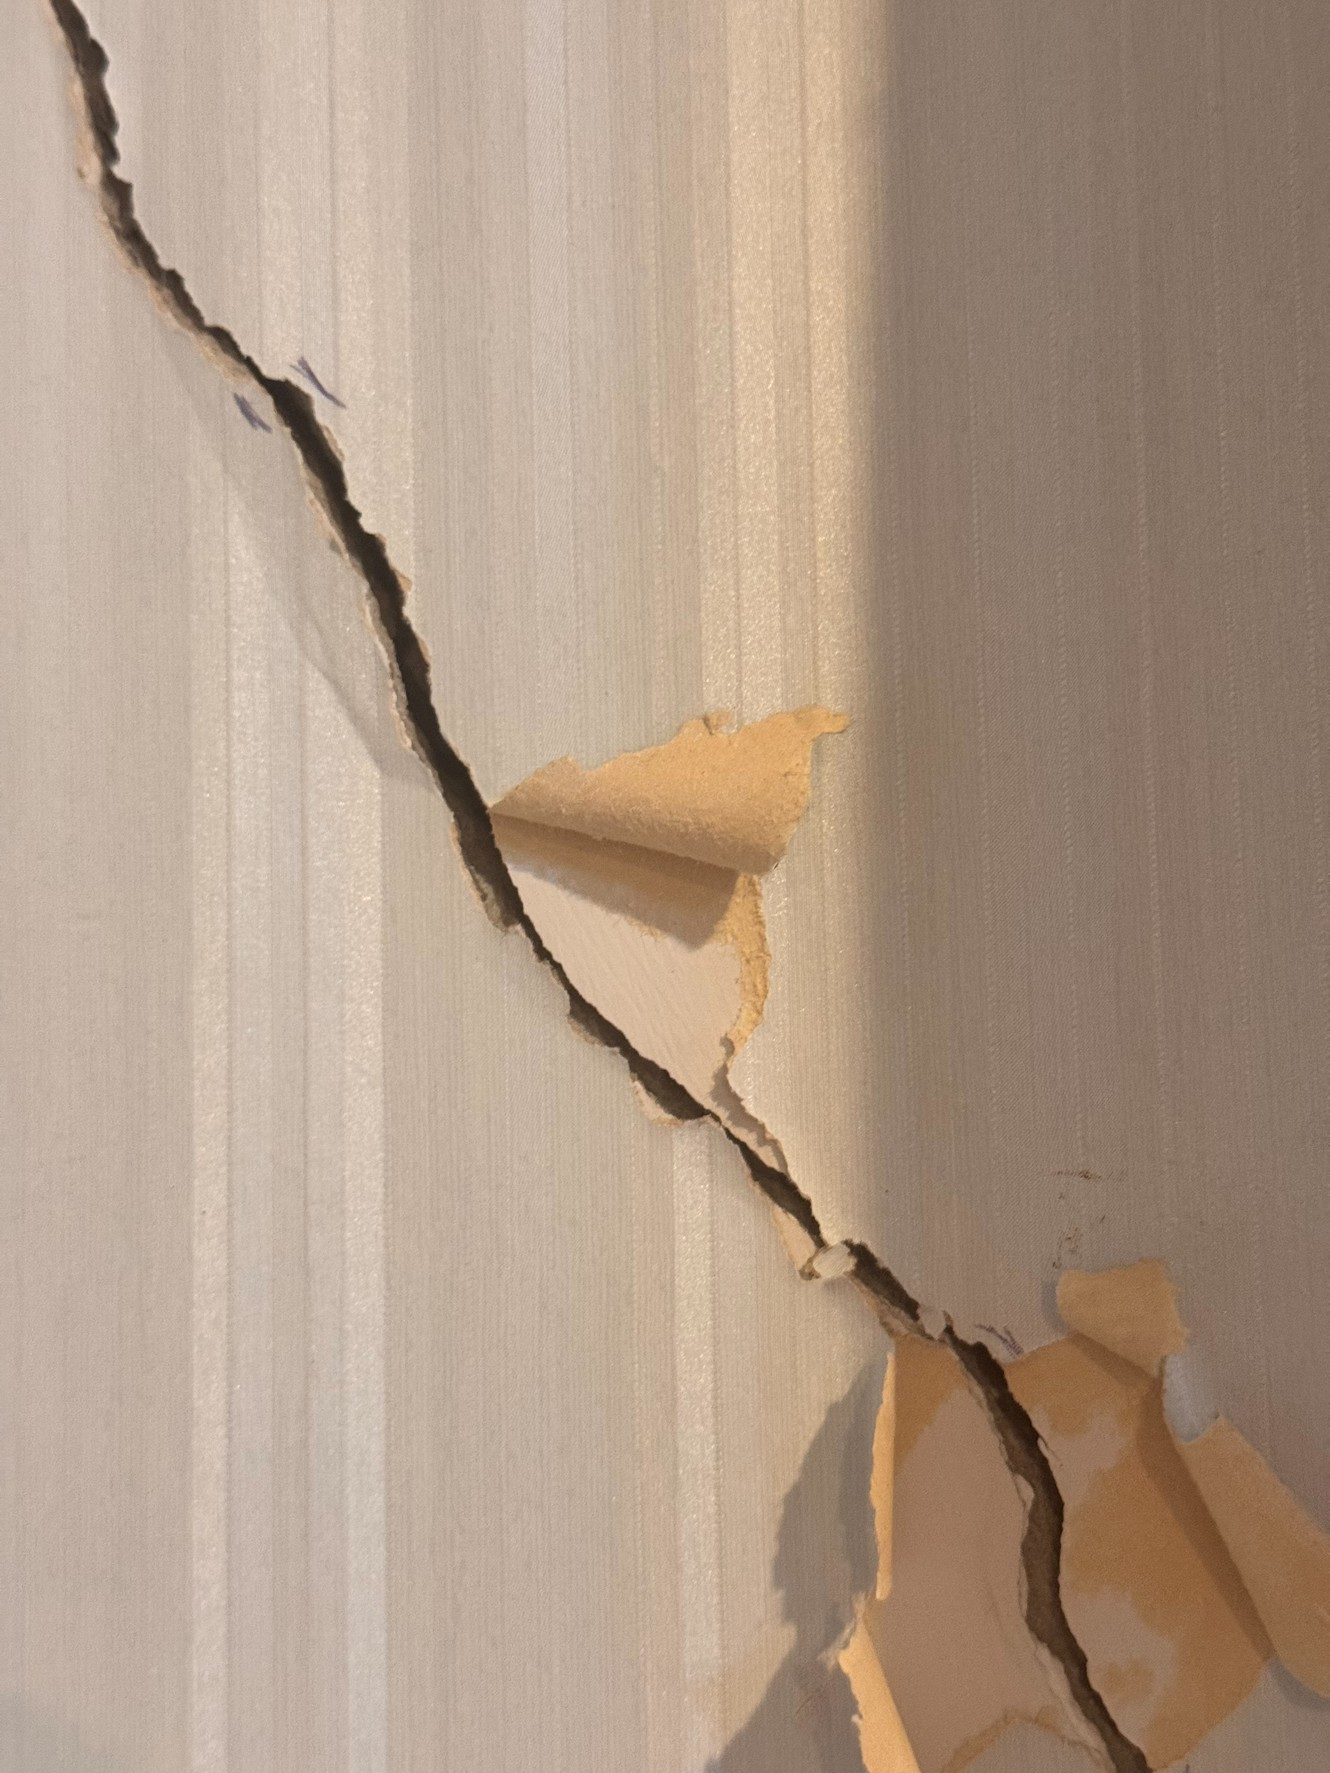Medium: (57, 31, 1097, 1496)
